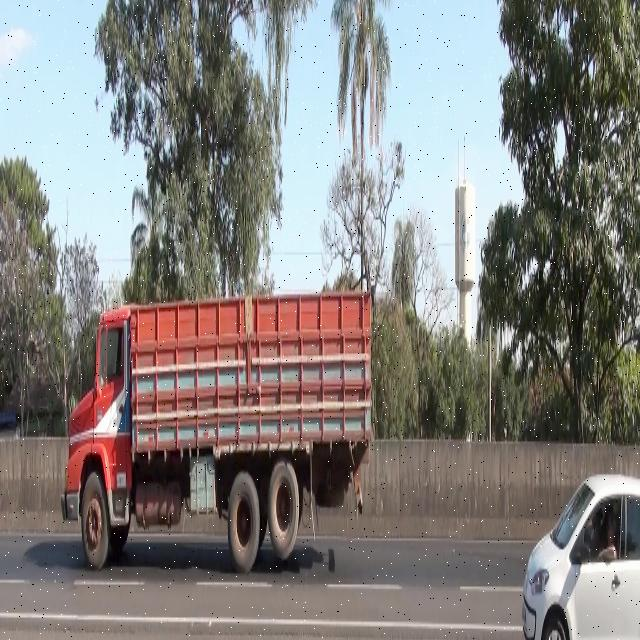-axle: (226, 468, 260, 575), (78, 469, 111, 568), (268, 463, 300, 561)
